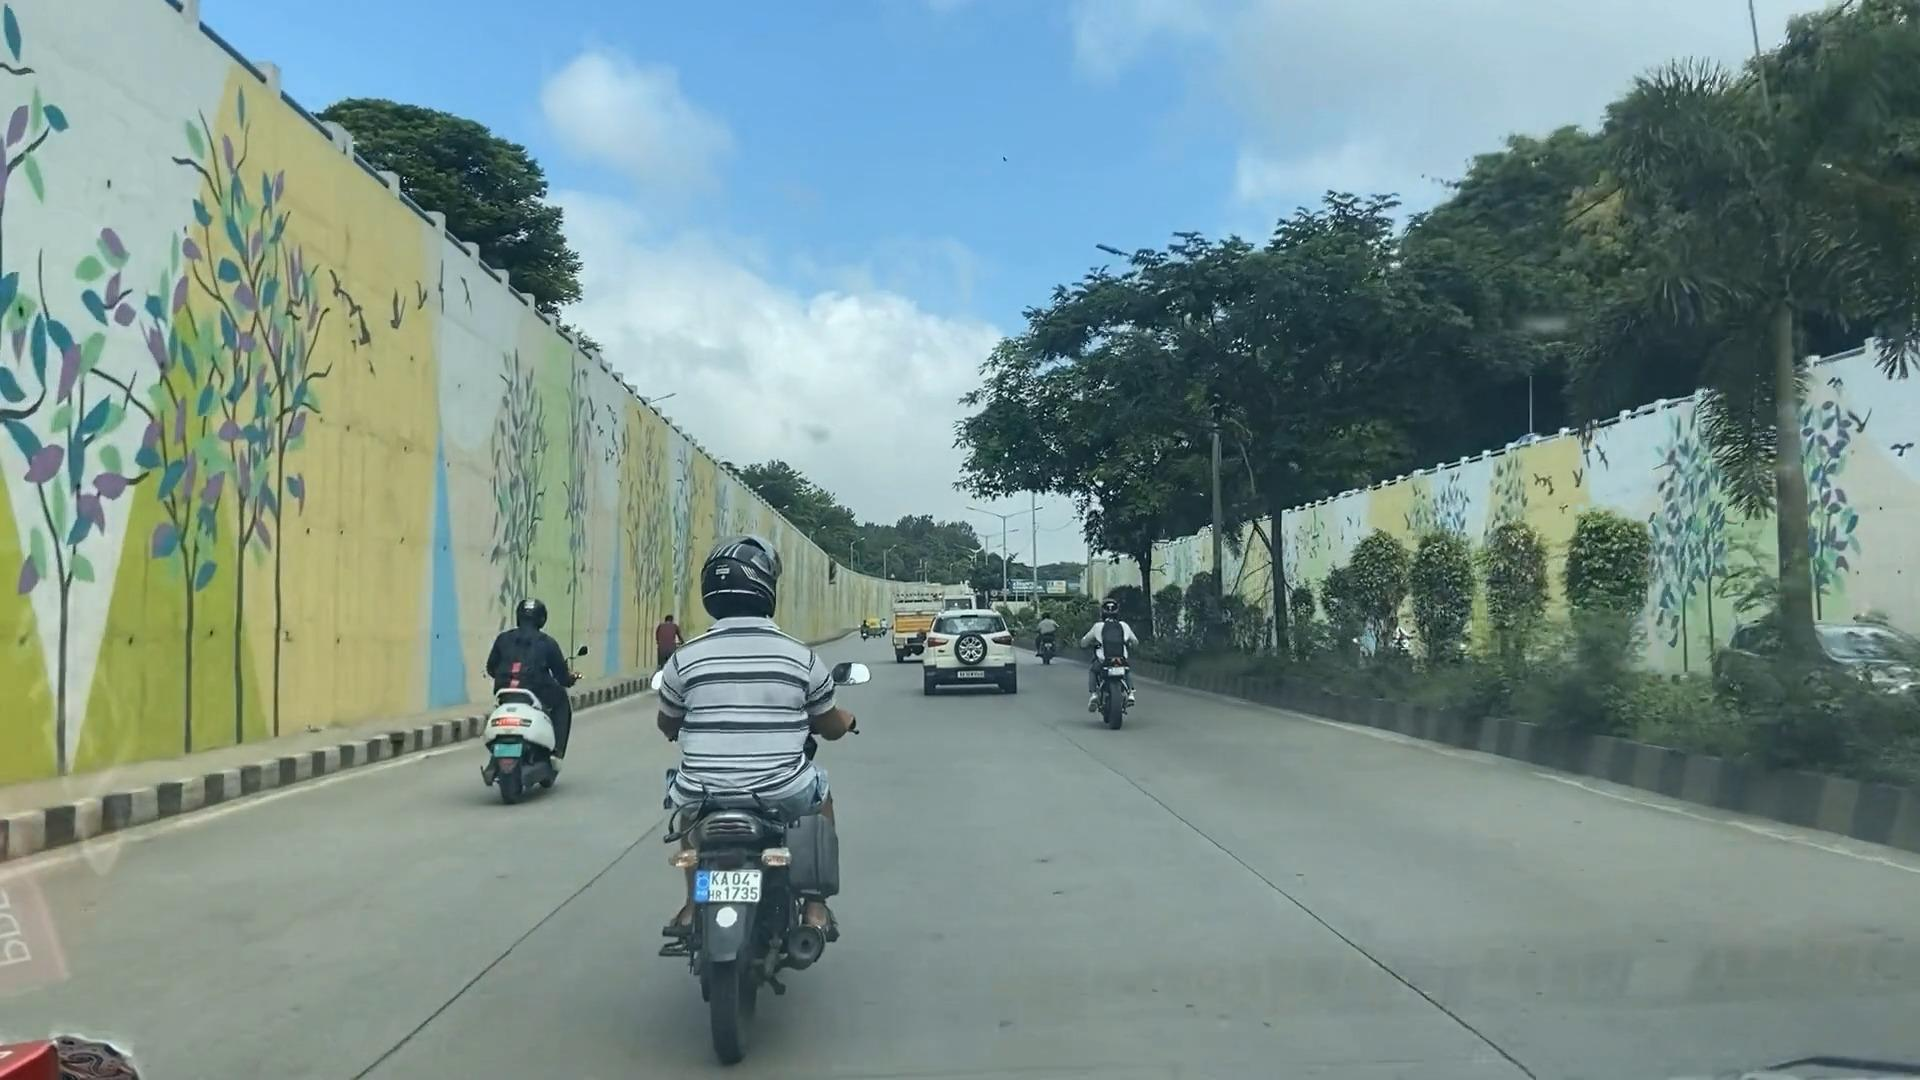LMV: (654, 537, 837, 1013), (484, 612, 576, 799), (926, 607, 1018, 699), (1096, 591, 1135, 721)
